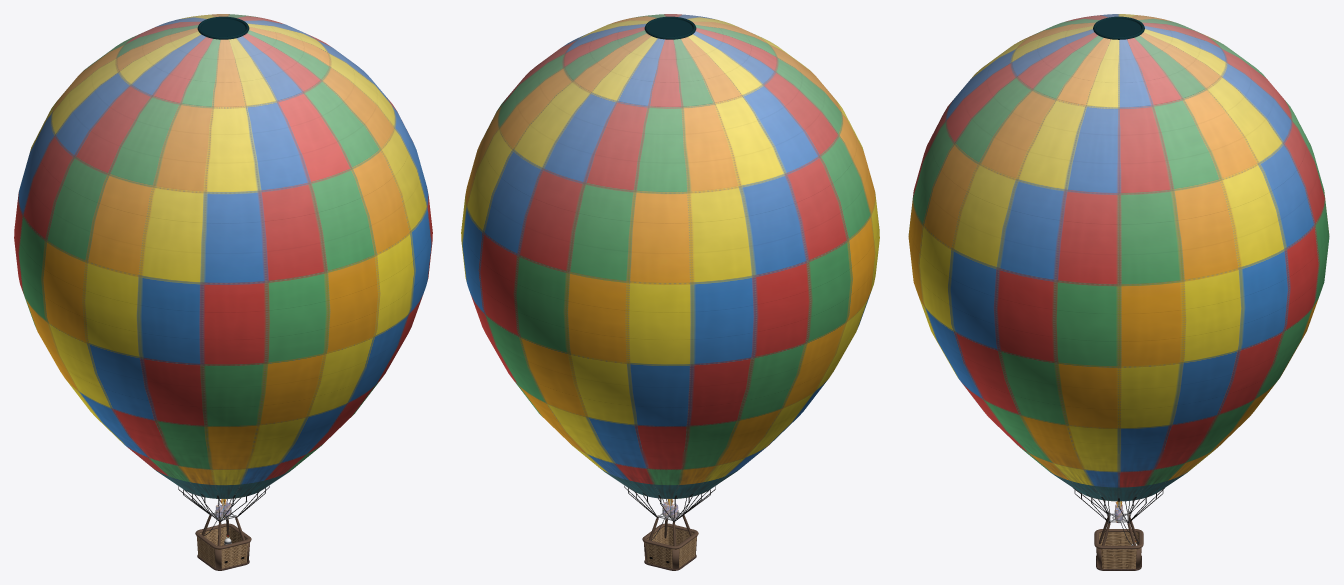
The model's file is globo_aerostatico.obj.
The picture shows the model from 3 angles, left to right: view 1: azimuth 30°, elevation 25°; view 2: azimuth 150°, elevation 25°; view 3: azimuth 270°, elevation 25°; orthographic projection.
Parts seen in each view (by area): view 1: Envelope_Fabric, Basket_Weave, Envelope_CrownValve; view 2: Envelope_Fabric, Basket_Weave, Envelope_CrownValve; view 3: Envelope_Fabric, Basket_Weave, Envelope_CrownValve.
Part boxes in pixels (x1=…): Envelope_Fabric: x1=14, y1=14, x2=432, y2=498; Basket_Weave: x1=197, y1=526, x2=248, y2=568; Envelope_CrownValve: x1=201, y1=19, x2=245, y2=36; Envelope_Fabric: x1=461, y1=14, x2=879, y2=498; Basket_Weave: x1=645, y1=526, x2=696, y2=568; Envelope_CrownValve: x1=648, y1=19, x2=692, y2=36; Envelope_Fabric: x1=908, y1=14, x2=1329, y2=501; Basket_Weave: x1=1097, y1=532, x2=1140, y2=568; Envelope_CrownValve: x1=1096, y1=19, x2=1141, y2=36.
Size of the model in its own units: 18 by 25.31 by 18.
